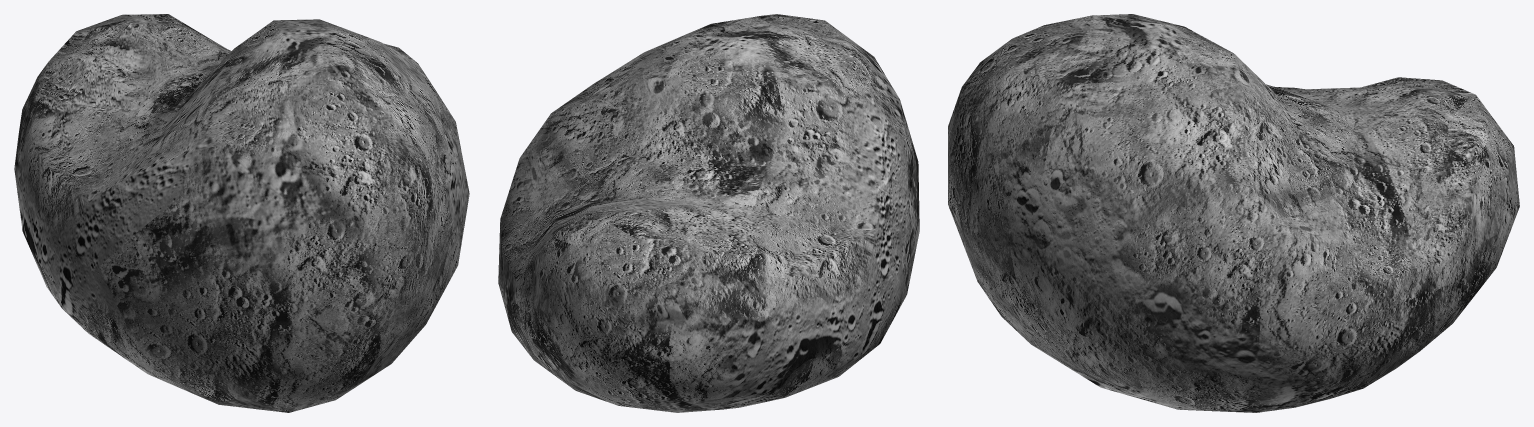
File: astroid 1.fbx
3 renders of one model, left to right at view 1: azimuth 30°, elevation 25°; view 2: azimuth 150°, elevation 25°; view 3: azimuth 270°, elevation 25°, orthographic. The views are drawn at different scales.
Visible parts, largest first — view 1: Icosphere; view 2: Icosphere; view 3: Icosphere.
Boxes of the visible parts, x1=… form: Icosphere: x1=14, y1=14, x2=469, y2=412; Icosphere: x1=498, y1=14, x2=919, y2=412; Icosphere: x1=948, y1=14, x2=1519, y2=412.
Bounding box in the file's own units: 783 × 699 × 1006.
